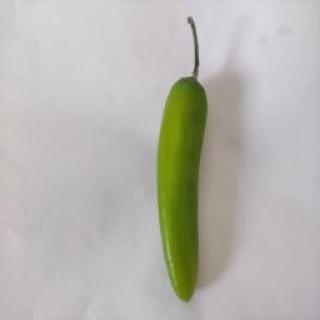Cabai Hijau: (155, 11, 214, 305)
